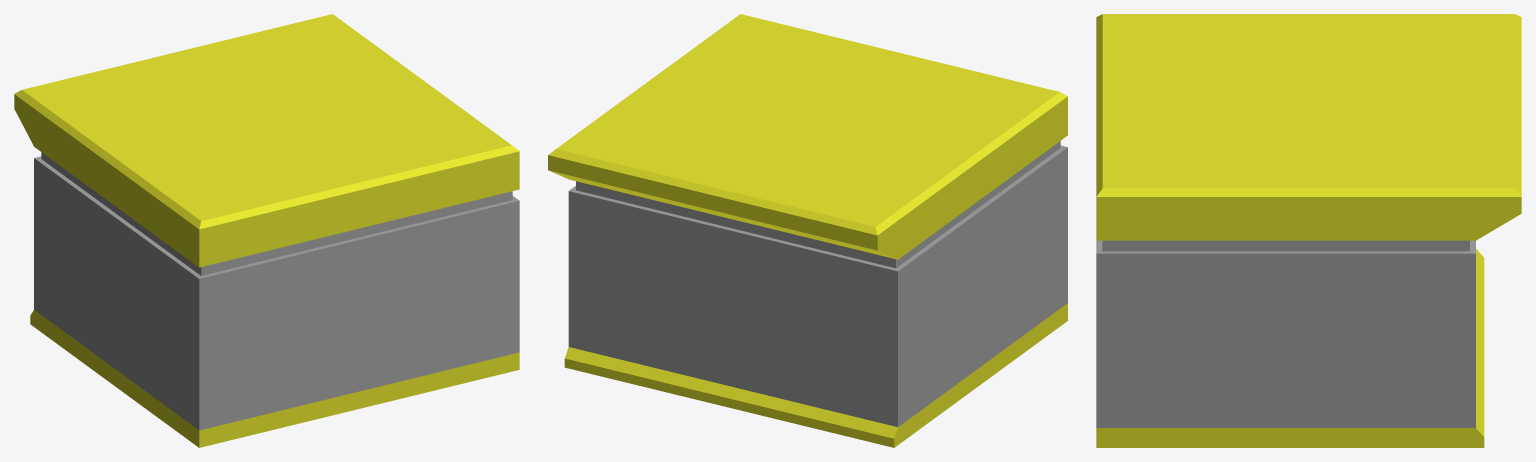
Rendered from Counter.fbx.
3 views of the same model, side by side, from view 1: azimuth 30°, elevation 25°; view 2: azimuth 150°, elevation 25°; view 3: azimuth 270°, elevation 25° (orthographic). The views are drawn at different scales.
Visible parts, largest first — view 1: Table__17_; view 2: Table__17_; view 3: Table__17_.
Boxes of the visible parts, box(x1,y1,x2,y2) form: Table__17_: box(14, 14, 519, 447); Table__17_: box(548, 14, 1067, 447); Table__17_: box(1096, 14, 1521, 447).
Size of the model in its own units: 150 by 100 by 150.
